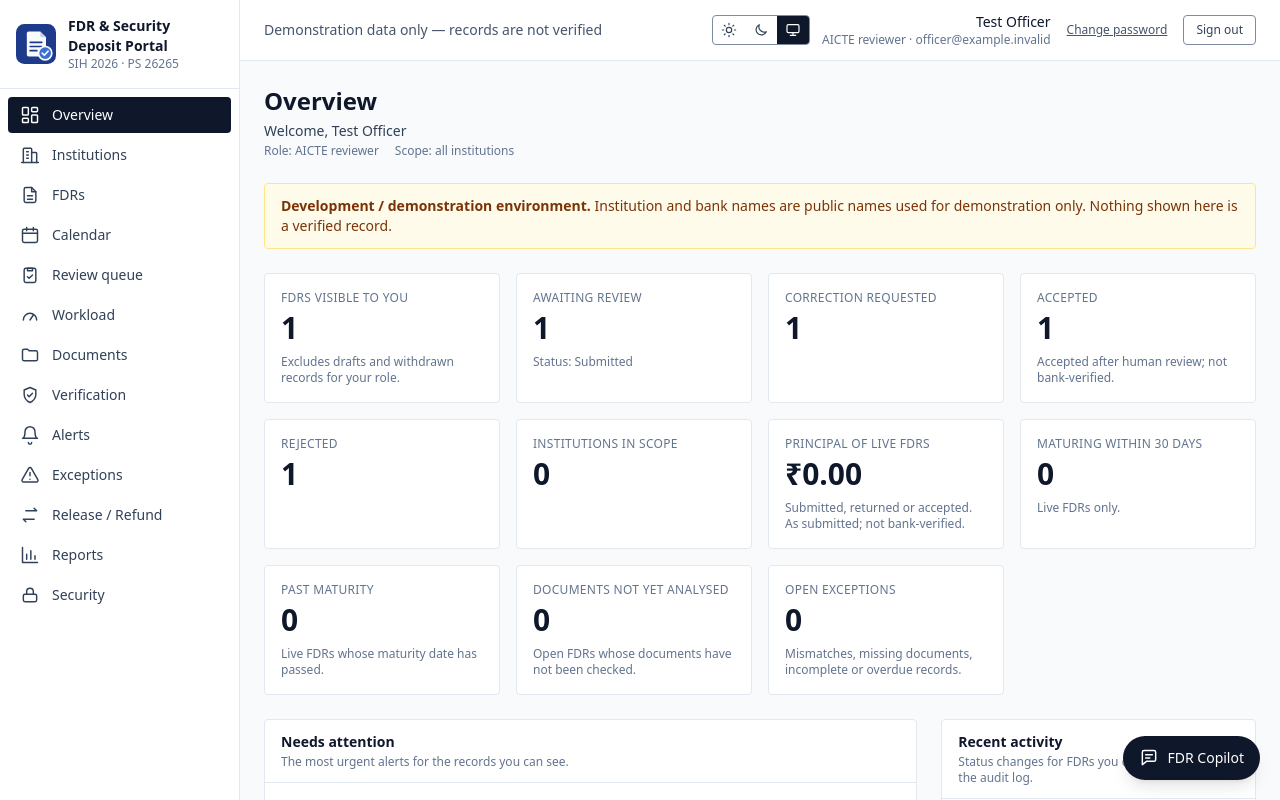
it: keyboard use › does not trap focus: Tab leaves the Copilot panel and Escape closes it
This screenshot has width=1280, height=800.
Check: the navigation bar named "Main" is shown, box x1=0 y1=89 x2=239 y2=621
Click the button with aria-label "Open FDR Copilot" at (1192, 758), box x1=1124 y1=736 x2=1260 y2=780
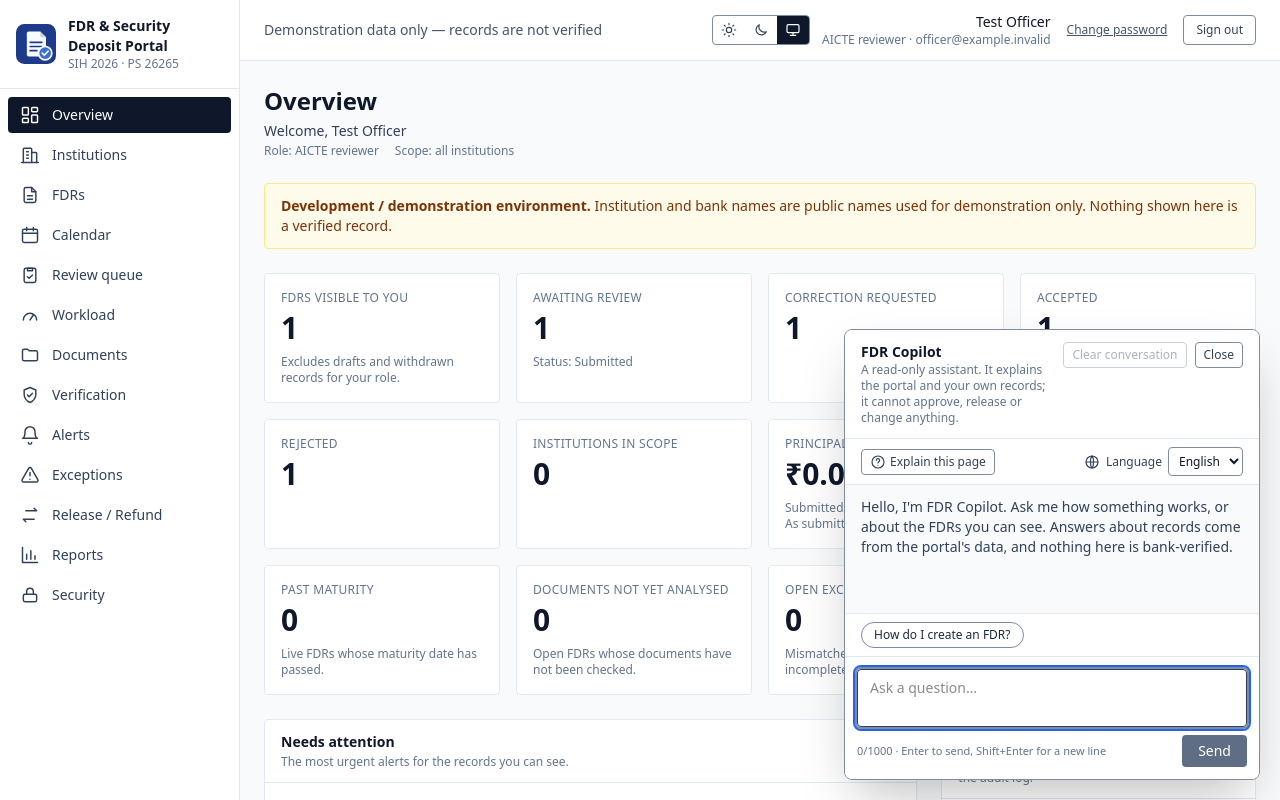
Press Escape
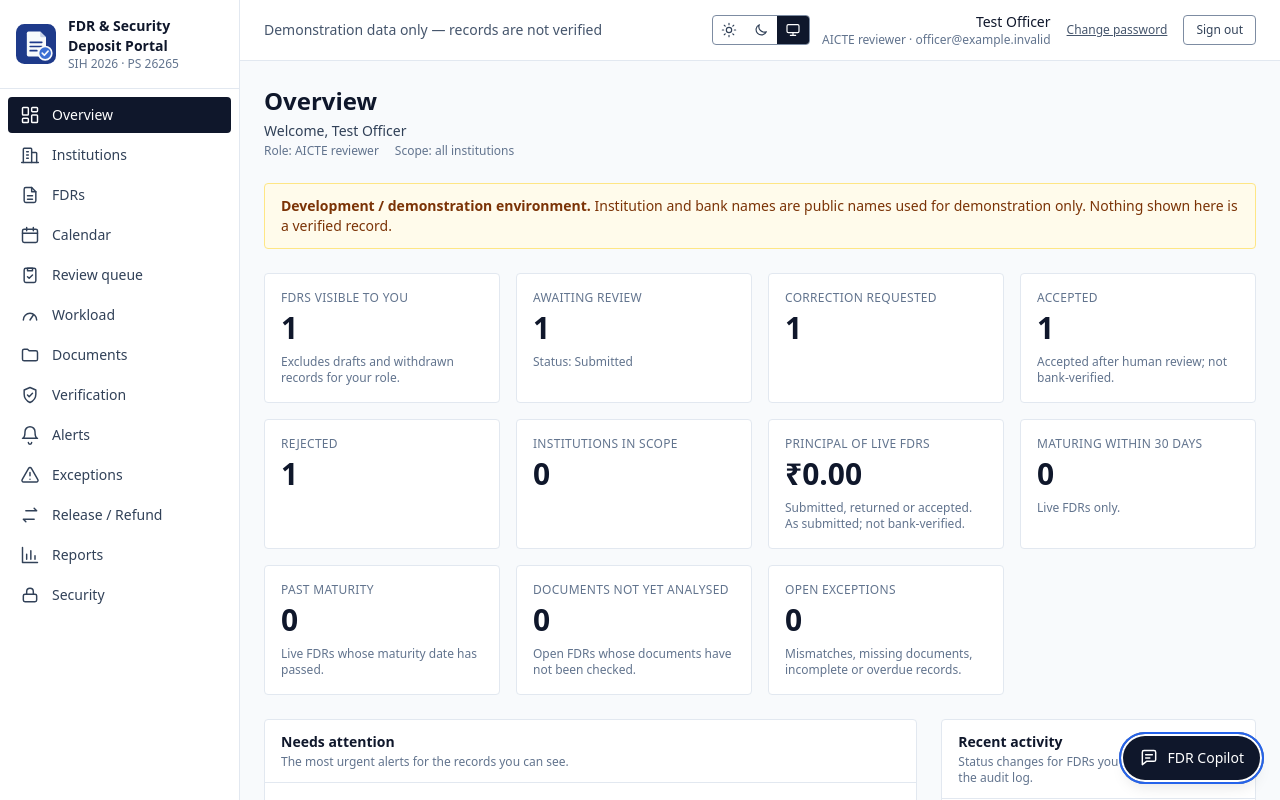
Check: the dialog is gone
